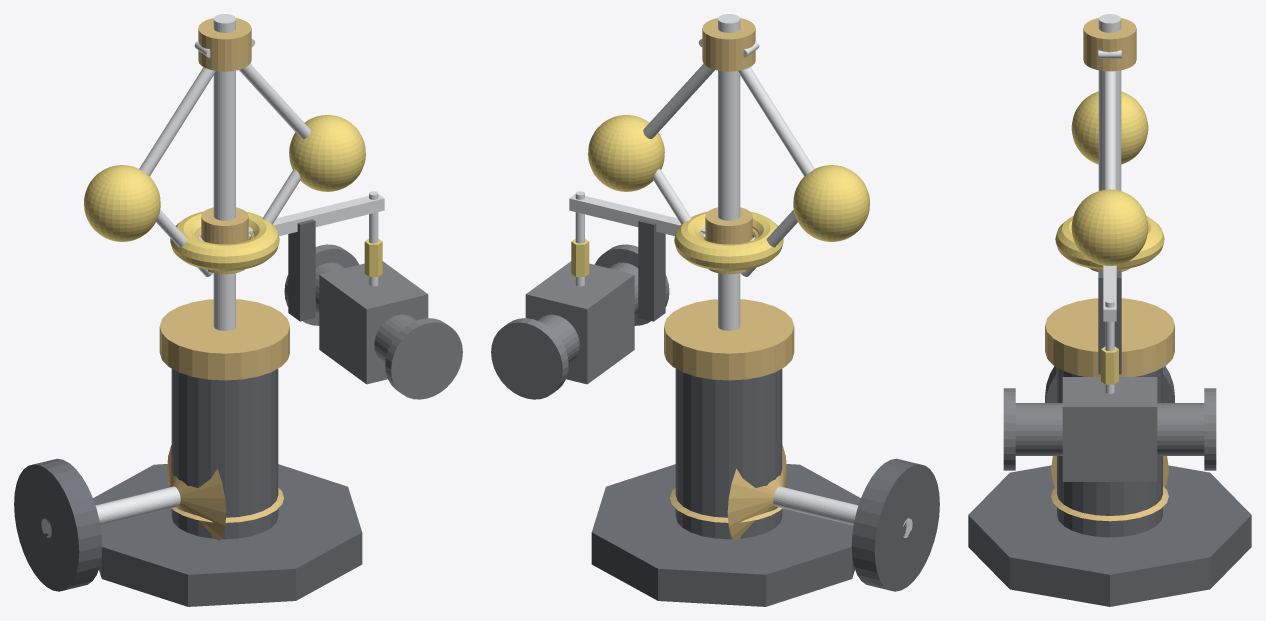
File: centrifugal_governor.glb
3 views of the same model, side by side, from view 1: azimuth 30°, elevation 25°; view 2: azimuth 150°, elevation 25°; view 3: azimuth 270°, elevation 25° (orthographic).
Parts seen in each view (by area): view 1: Cylinder, Cylinder.001, Cylinder.004, Cylinder.002, Cube.002, Cylinder.005, Sphere, Sphere.001, Torus, Cylinder.019, Cylinder.018, Cube.001 (+11 smaller); view 2: Cylinder, Cylinder.001, Cylinder.004, Cylinder.002, Cube.002, Cylinder.005, Sphere, Sphere.001, Torus, Cylinder.020, Cylinder.018, Cube.001 (+11 smaller); view 3: Cylinder, Cube.002, Cylinder.002, Cylinder.001, Cylinder.018, Sphere.001, Sphere, Cylinder.006, Cylinder.005, Torus, Cylinder.012, Cube.001 (+7 smaller).
Boxes of the visible parts, bbox=[...] form: Cylinder: bbox=[93, 464, 362, 606]; Cylinder.001: bbox=[171, 369, 278, 539]; Cylinder.004: bbox=[14, 458, 102, 591]; Cylinder.002: bbox=[159, 299, 289, 380]; Cube.002: bbox=[319, 261, 428, 384]; Cylinder.005: bbox=[213, 14, 235, 330]; Sphere: bbox=[84, 165, 160, 241]; Sphere.001: bbox=[289, 115, 365, 191]; Torus: bbox=[170, 211, 279, 270]; Cylinder.019: bbox=[385, 318, 462, 399]; Cylinder.018: bbox=[315, 262, 449, 385]; Cube.001: bbox=[288, 219, 315, 321]; Cylinder: bbox=[591, 464, 860, 606]; Cylinder.001: bbox=[675, 369, 782, 539]; Cylinder.004: bbox=[851, 458, 939, 591]; Cylinder.002: bbox=[664, 299, 794, 380]; Cube.002: bbox=[525, 261, 634, 384]; Cylinder.005: bbox=[718, 14, 740, 330]; Sphere: bbox=[793, 165, 869, 241]; Sphere.001: bbox=[588, 115, 664, 191]; Torus: bbox=[674, 211, 783, 270]; Cylinder.020: bbox=[491, 318, 568, 399]; Cylinder.018: bbox=[504, 262, 638, 385]; Cube.001: bbox=[638, 219, 665, 321]; Cylinder: bbox=[968, 465, 1251, 606]; Cube.002: bbox=[1062, 377, 1157, 481]; Cylinder.002: bbox=[1045, 298, 1174, 376]; Cylinder.001: bbox=[1057, 367, 1162, 537]; Cylinder.018: bbox=[1015, 403, 1204, 455]; Sphere.001: bbox=[1071, 189, 1148, 265]; Sphere: bbox=[1071, 91, 1148, 164]; Cylinder.006: bbox=[1083, 18, 1136, 71]; Cylinder.005: bbox=[1098, 14, 1121, 190]; Torus: bbox=[1055, 216, 1164, 269]; Cylinder.012: bbox=[1103, 71, 1116, 189]; Cube.001: bbox=[1098, 270, 1121, 374].
Bounding box in the file's own units: 1.41 × 1.98 × 0.96.
